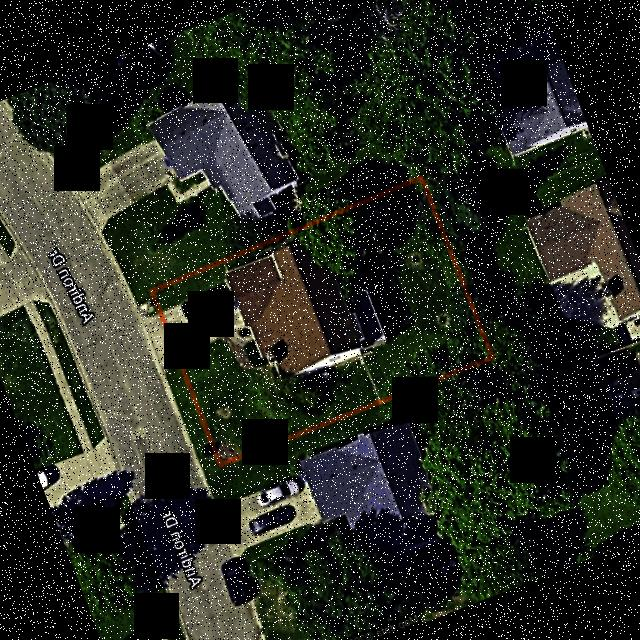Driveway: (162, 281, 245, 356)
Extra Driveway: (142, 313, 173, 370)
Extra Lawn: (165, 358, 219, 473), (133, 289, 156, 311), (144, 307, 157, 316)
House: (225, 235, 362, 386)
Other: (345, 288, 386, 355), (138, 300, 154, 315)
Sidewalk: (224, 331, 252, 346)
